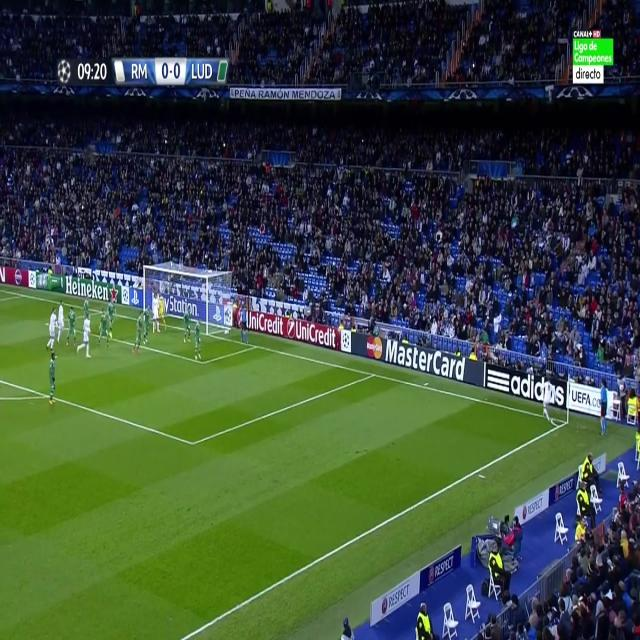Goalkeeper: (157, 292, 170, 333)
Player: (75, 312, 93, 359), (43, 306, 58, 353), (97, 308, 111, 351), (543, 377, 555, 425), (48, 351, 58, 407), (66, 303, 78, 349), (143, 303, 155, 348), (132, 311, 144, 355), (192, 319, 204, 363), (180, 308, 192, 347), (56, 299, 65, 349), (82, 296, 92, 312)
Referee: (598, 379, 610, 435), (239, 306, 252, 348)
